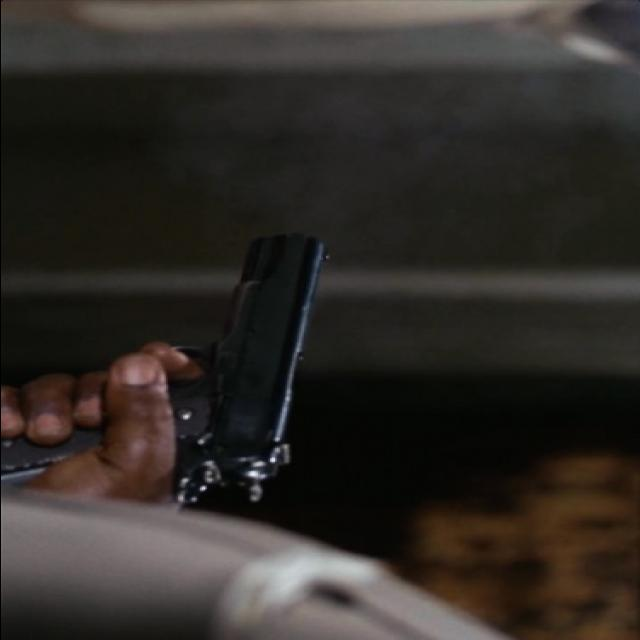weapons: (6, 228, 348, 518)
